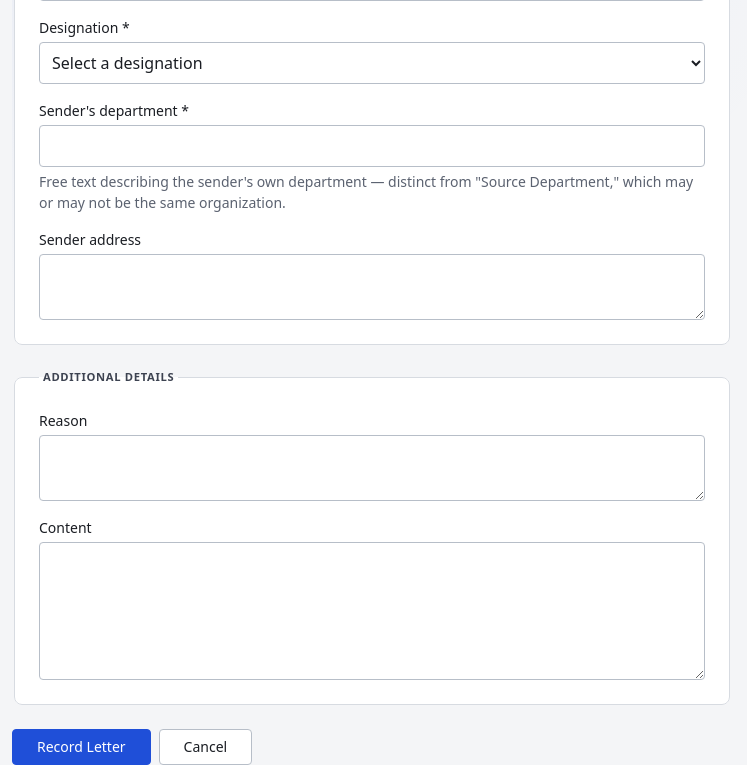
Test: LetterFormPage — create › requires the mandatory fields before submitting
The image size is (747, 765).
(page scrolled)
Click the button "Record Letter" at (81, 747), box [12,729,151,764]
(page scrolled)
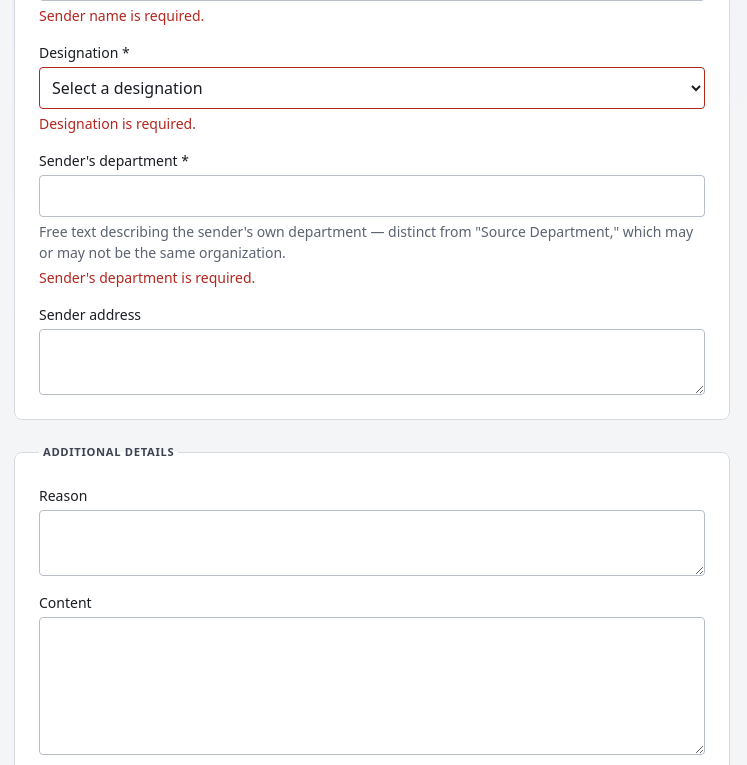
Expected: the text "Designation is required." is shown, [39,114,196,133]
